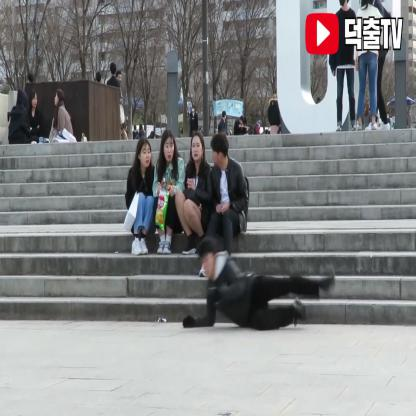Fall_Down: (180, 235, 339, 335)
